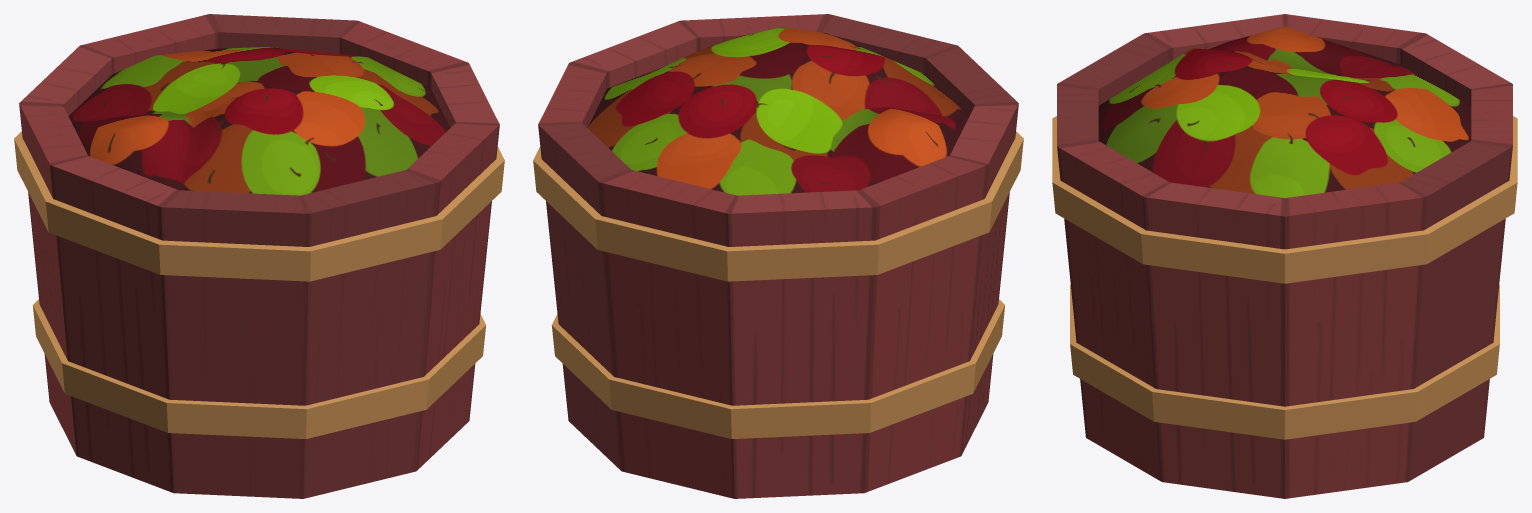
The model's file is Basket 03.fbx.
The picture shows the model from 3 angles, left to right: view 1: azimuth 30°, elevation 25°; view 2: azimuth 150°, elevation 25°; view 3: azimuth 270°, elevation 25°; orthographic projection.
Visible parts, largest first — view 1: Basket_03; view 2: Basket_03; view 3: Basket_03.
Boxes of the visible parts, x1,y1,x2,y2 form: Basket_03: (14, 14, 504, 498); Basket_03: (533, 14, 1023, 498); Basket_03: (1052, 14, 1517, 498).
Size of the model in its own units: 115 by 88.08 by 109.
